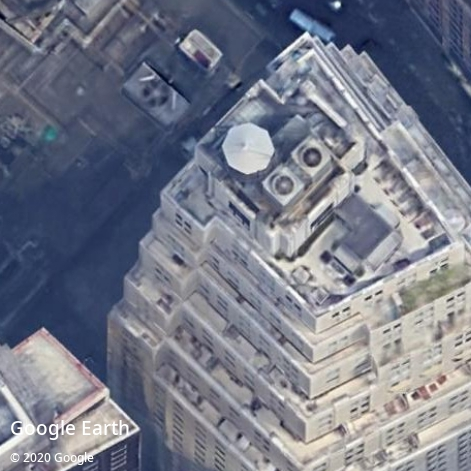Vent: (141, 80, 170, 109), (273, 175, 295, 196), (301, 146, 322, 167)
